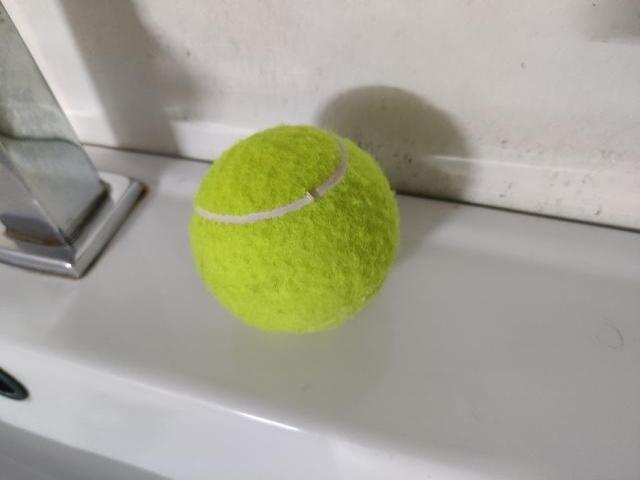tennis-ball: (187, 123, 401, 334)
